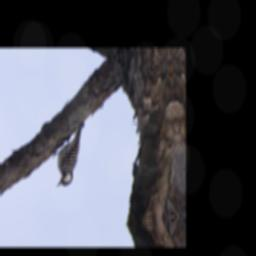Woodpecker: (46, 117, 93, 192)
